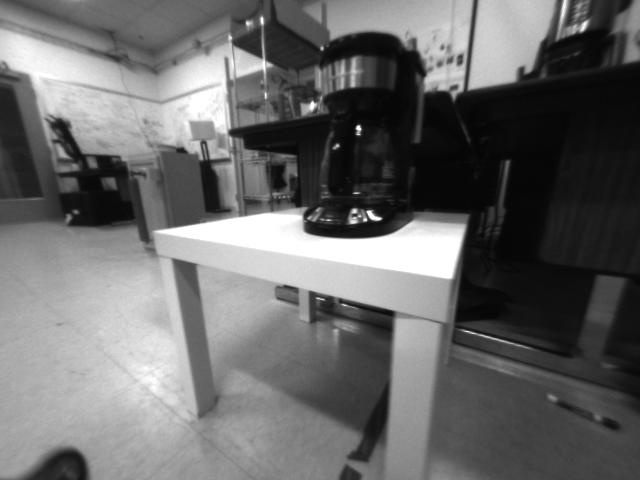coffee_pot: (298, 34, 424, 235)
